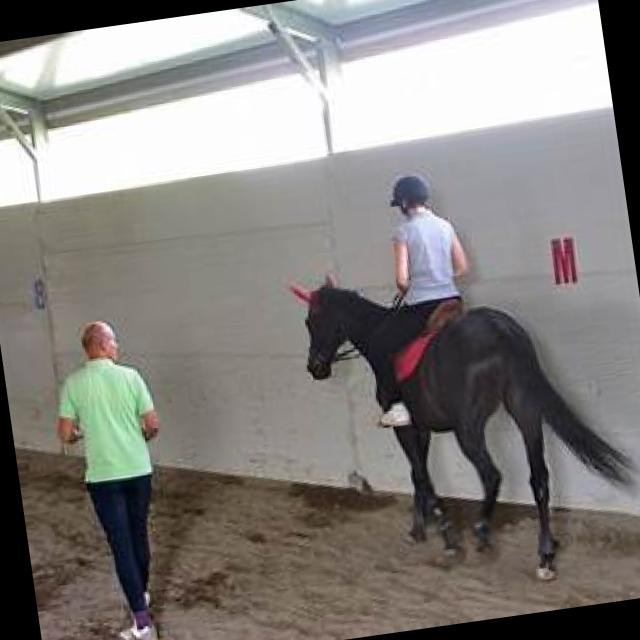animal: (288, 231, 640, 609)
